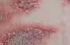plaque psoriasis: (2, 23, 52, 45), (16, 0, 35, 12), (0, 9, 9, 22), (66, 0, 70, 4)
